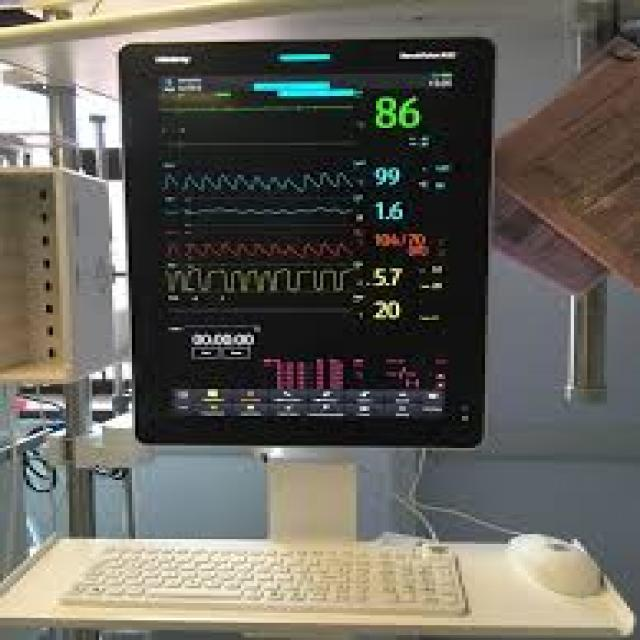cardiac_monitor: (126, 46, 493, 449)
